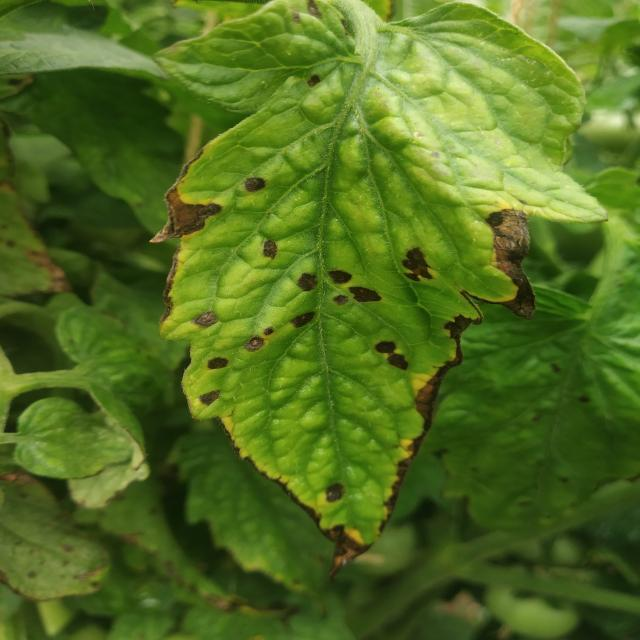Tomato mosaic virus leaf: (145, 0, 539, 587)
